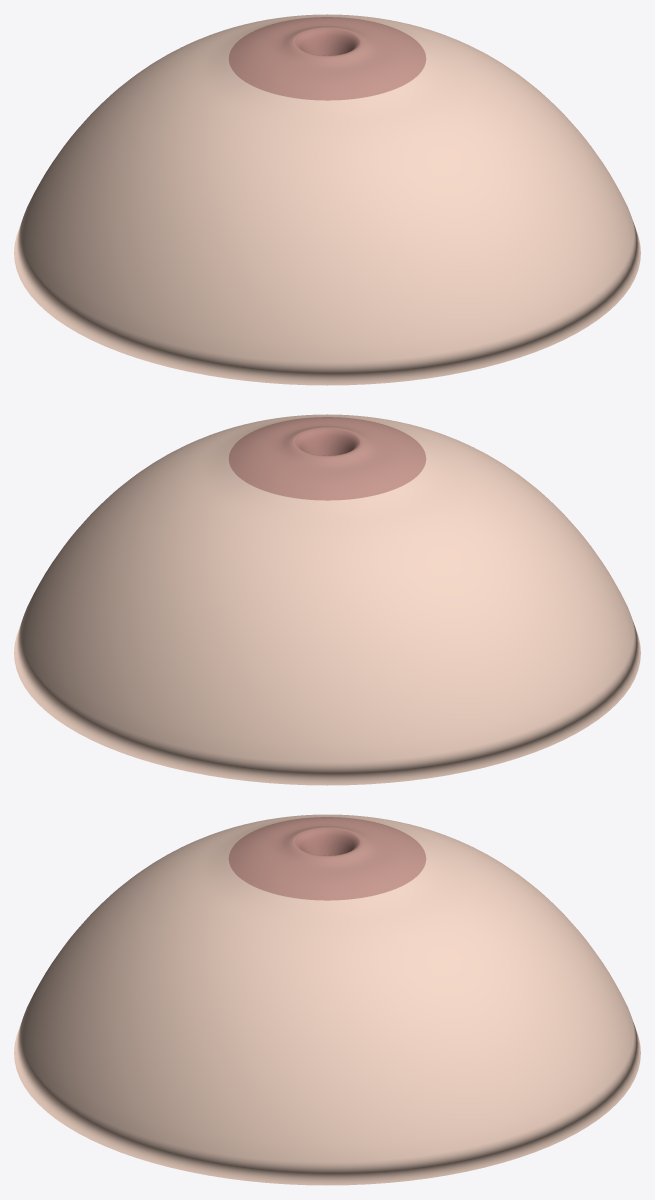
Rendered from bico-invertido.glb.
3 views of the same model, one above another, from view 1: azimuth 30°, elevation 25°; view 2: azimuth 150°, elevation 25°; view 3: azimuth 270°, elevation 25° (orthographic).
Visible parts, largest first — view 1: seio; view 2: seio; view 3: seio.
Boxes of the visible parts, x1,y1,x2,y2 form: seio: [14, 14, 640, 385]; seio: [14, 414, 640, 785]; seio: [14, 814, 640, 1185].
Bounding box in the file's own units: 0.12 × 0.0445 × 0.12.
